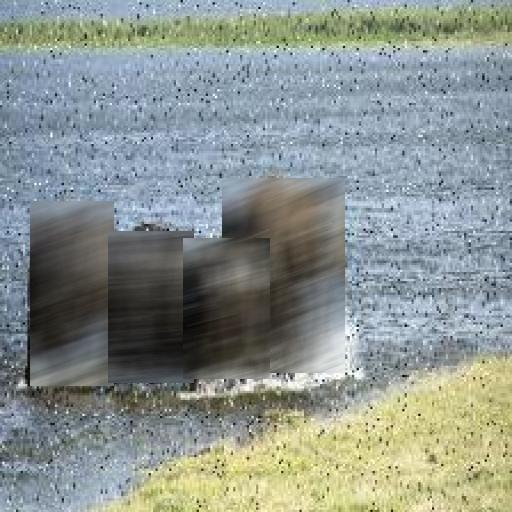Elephant: (222, 178, 345, 373), (30, 201, 114, 386), (108, 231, 194, 383), (183, 238, 270, 379)
